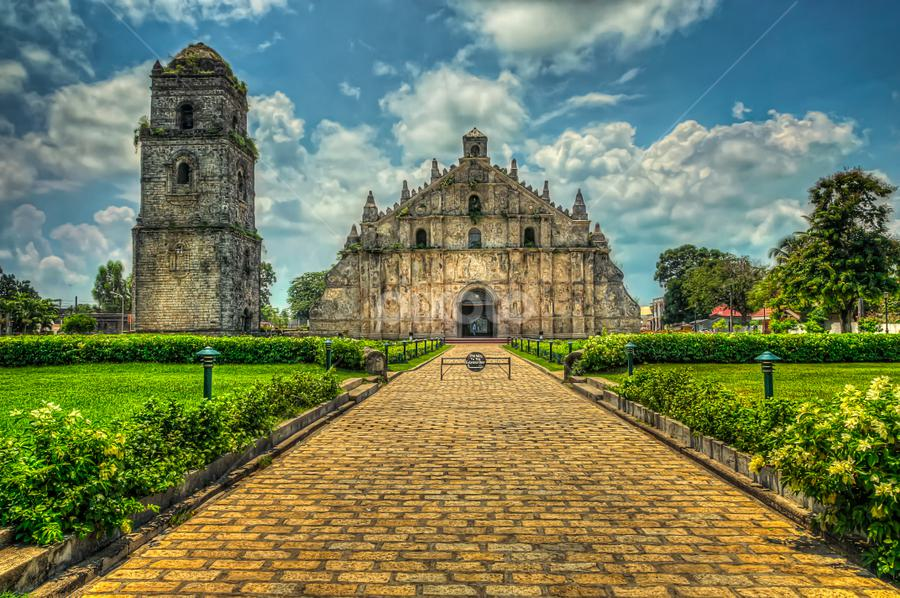Environmental Damage: (140, 127, 225, 144), (349, 241, 411, 260), (223, 221, 267, 244), (463, 211, 489, 226)
Paoay Church: (122, 31, 642, 338)
